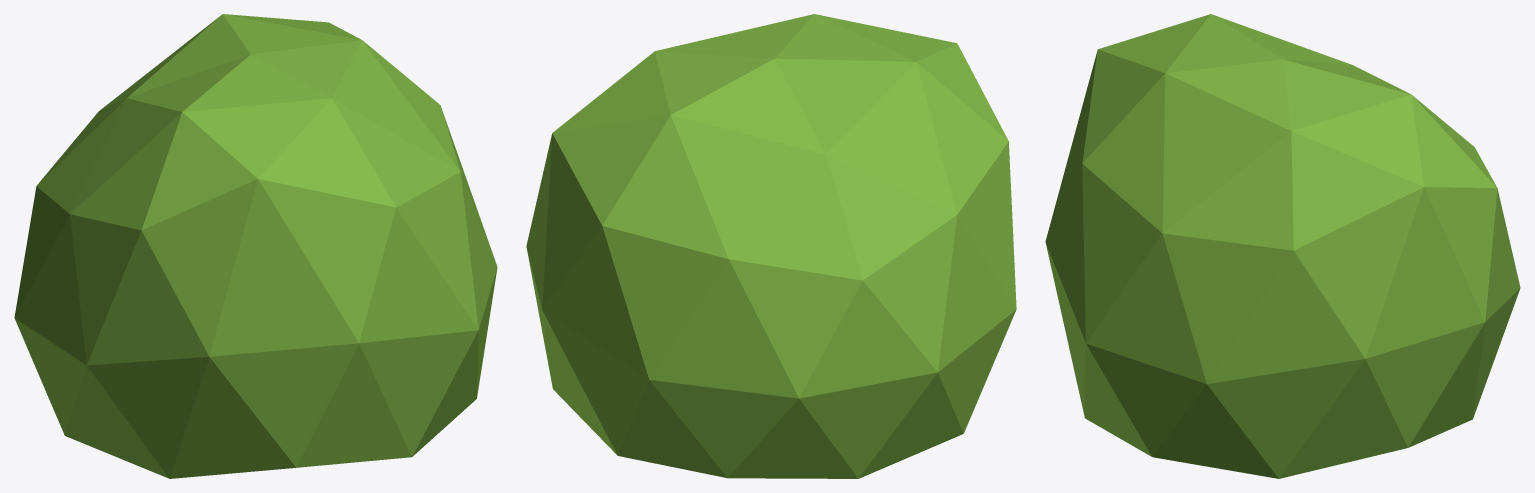
File: bush1.gltf
3 renders of one model, left to right at view 1: azimuth 30°, elevation 25°; view 2: azimuth 150°, elevation 25°; view 3: azimuth 270°, elevation 25°, orthographic. The views are drawn at different scales.
Parts seen in each view (by area): view 1: Bush2_Bush1_1_0; view 2: Bush2_Bush1_1_0; view 3: Bush2_Bush1_1_0.
Part boxes in pixels (box(x1,y1,x2,y2)): Bush2_Bush1_1_0: box(14, 14, 497, 478); Bush2_Bush1_1_0: box(526, 14, 1016, 478); Bush2_Bush1_1_0: box(1045, 14, 1520, 478).
Bounding box in the file's own units: 1.81 × 1.52 × 1.87.
